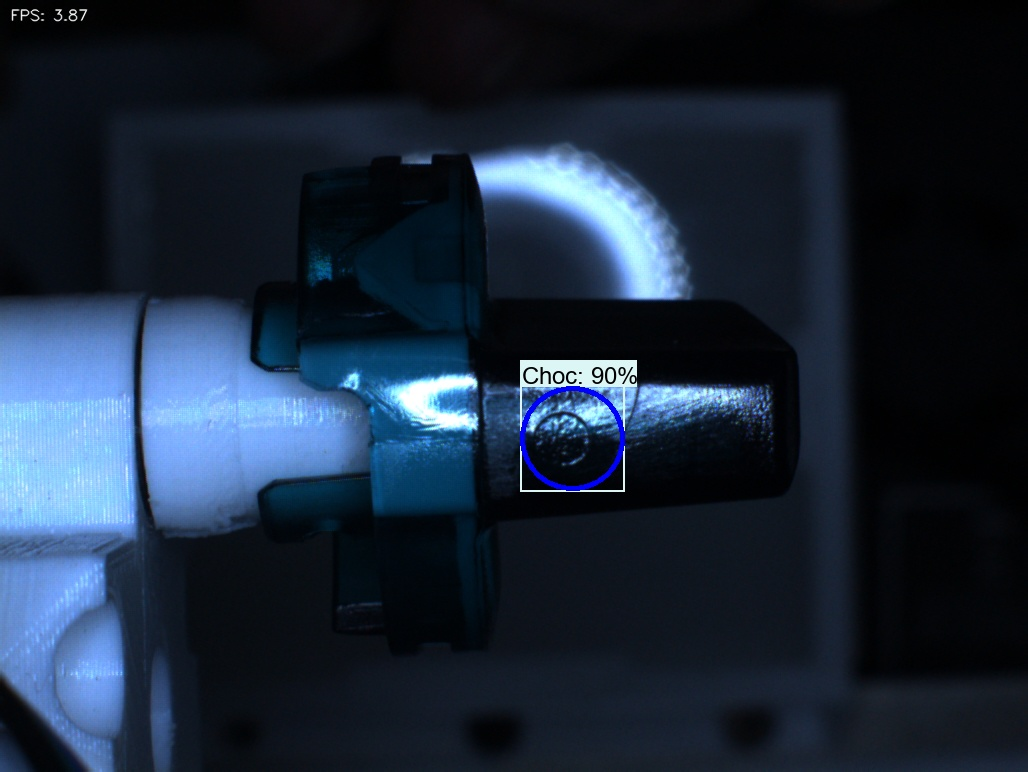DentOk: (328, 225, 404, 314)
